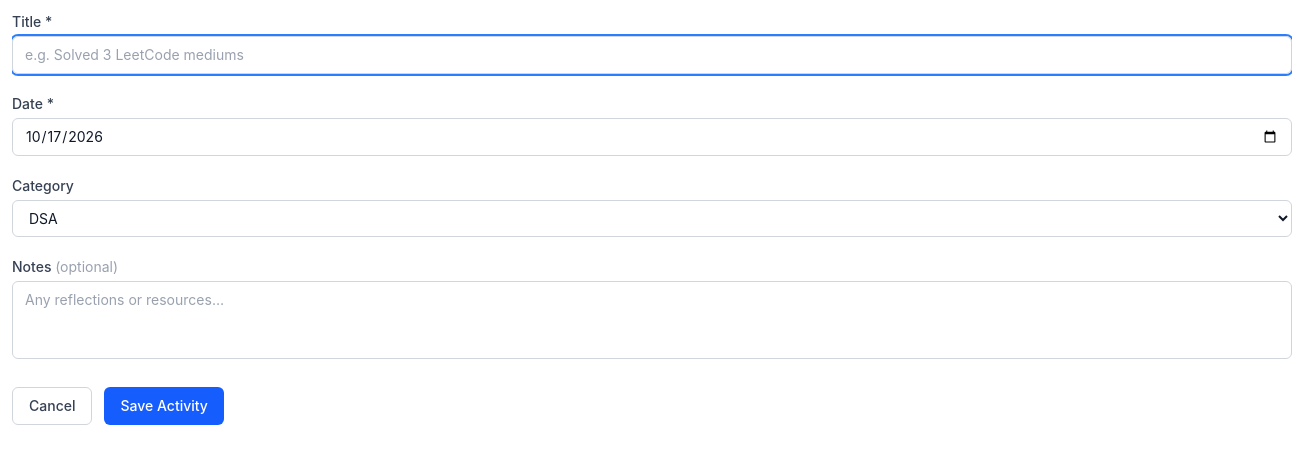
ActivityForm › TC-012: shows "Title is required." when submitted with empty title
Step 1. Click the button "Save Activity" → (164, 406), box [104,387,224,425]
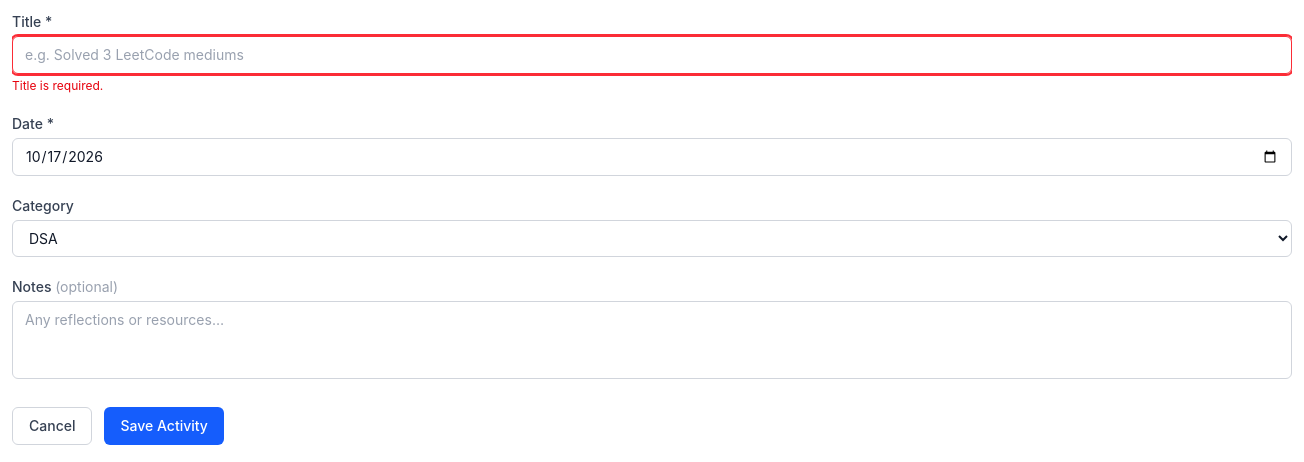
Check: the text "Title is required." is shown, box [12,78,103,93]
